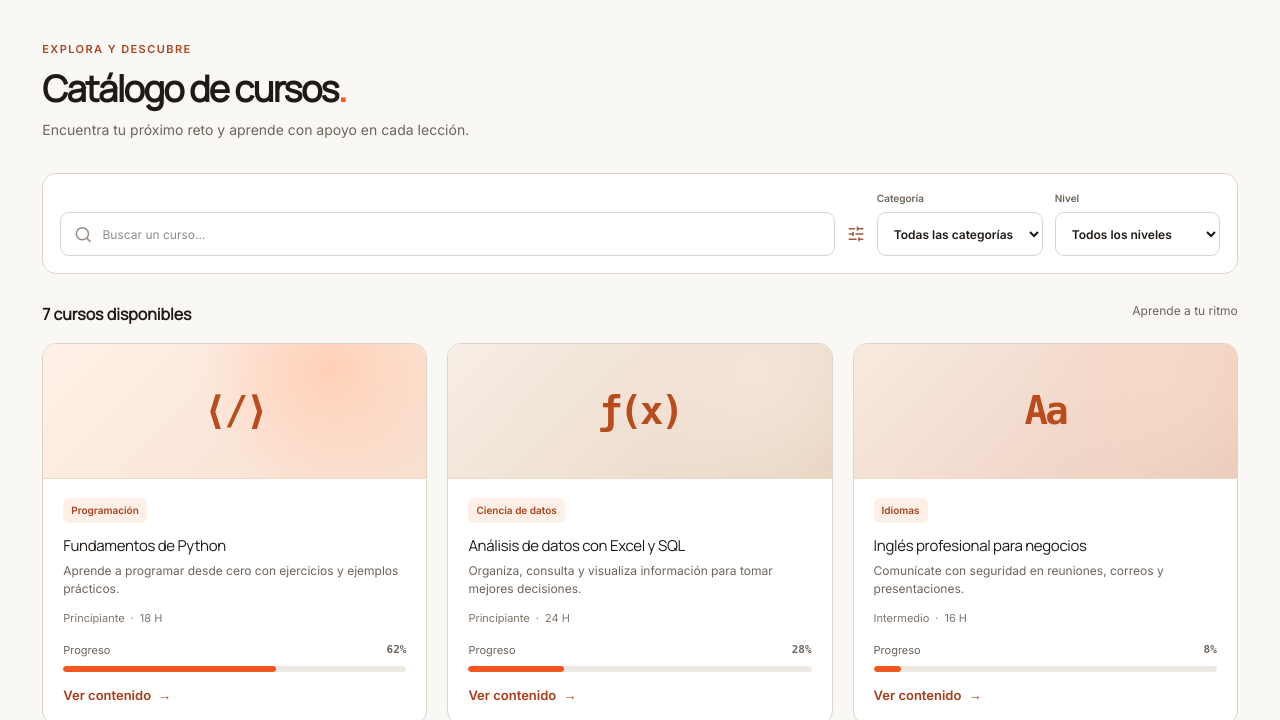
Test: vista del catálogo › muestra y filtra una categoría recibida desde los datos
Select "Robótica" in the dropdown labelled "Categoría". click: (960, 234)
box: [877,212,1043,256]
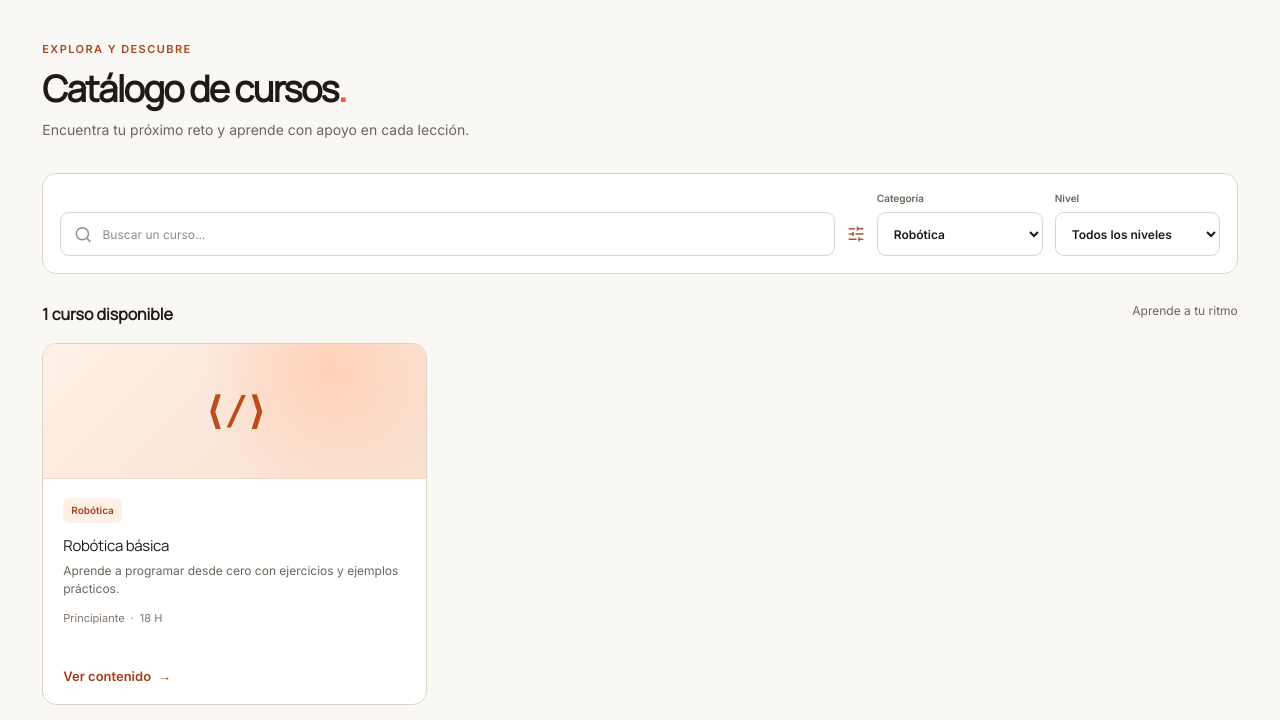
Expected: the heading "Robótica básica" is shown, [63,535,169,556]
Result: the heading "Fundamentos de Python" is gone
